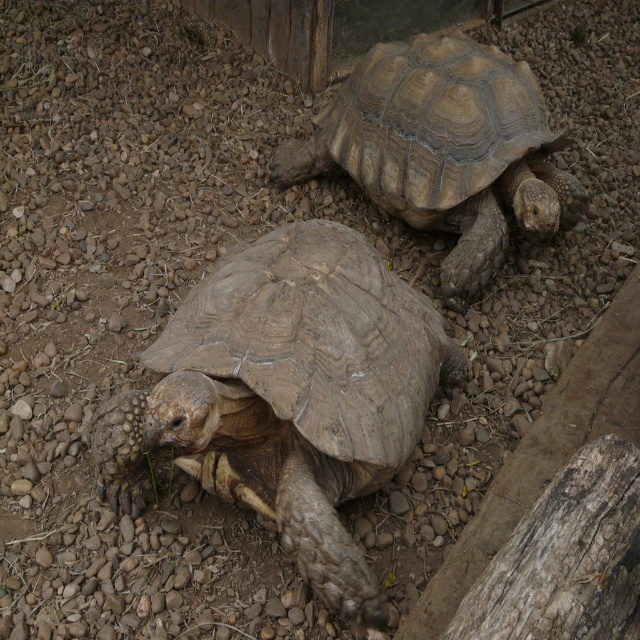Tortoise: (92, 219, 473, 640), (269, 33, 590, 313)
